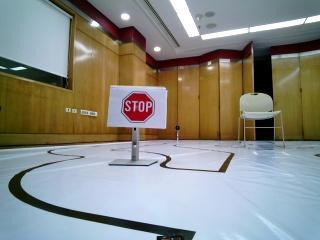stop: (117, 88, 164, 125)
